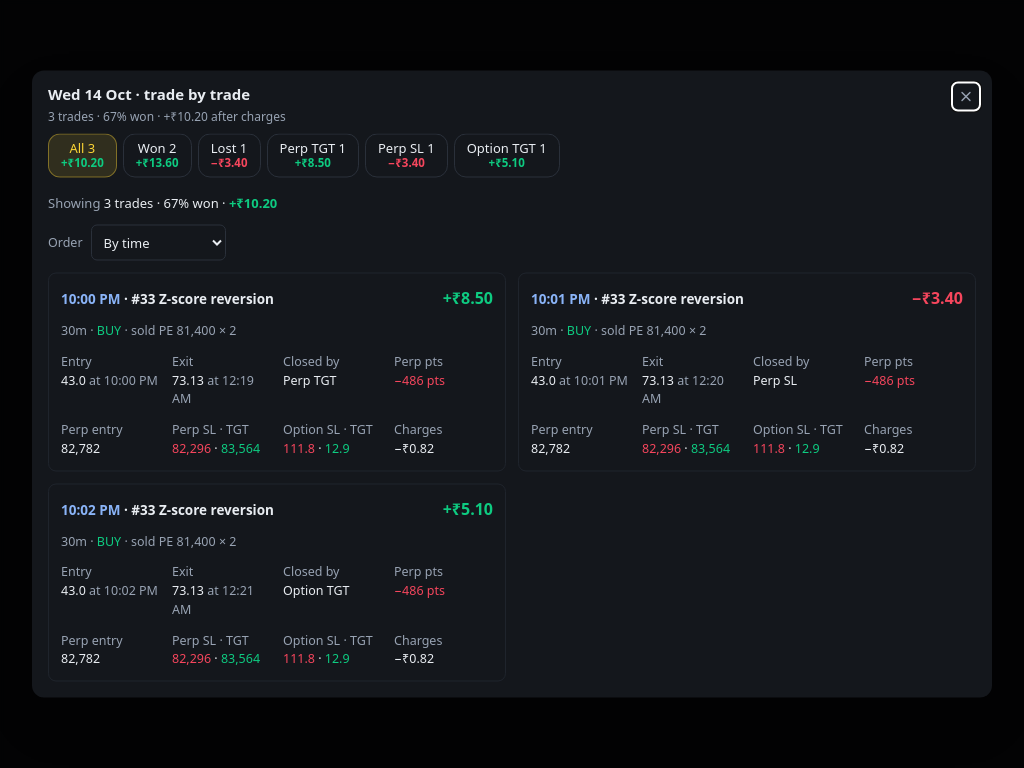
Test: a day of the backtest, trade by trade (14 Oct 2026) › [critical] every tab says what its trades made; the line under them says what is shown (15 Oct 2026)
Expected: the list named "Trades" is shown, [48,272,976,682]
Click the button with aria-label "Lost 1:" at (229, 155), box [198,133,260,177]
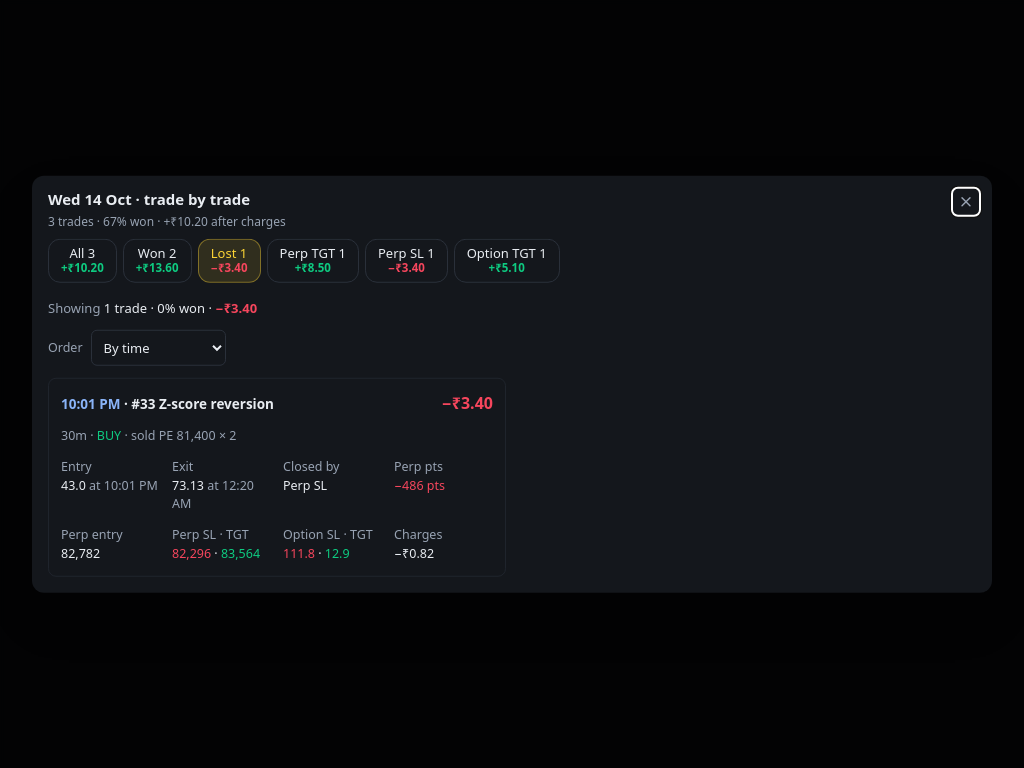
Expected: the element named "What is shown" shows "Showing 1 trade · 0% won · −₹", [48,298,257,316]
